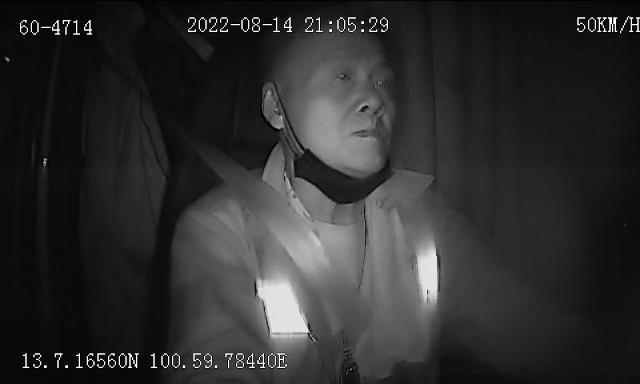Seatbelt: (198, 143, 370, 345)
